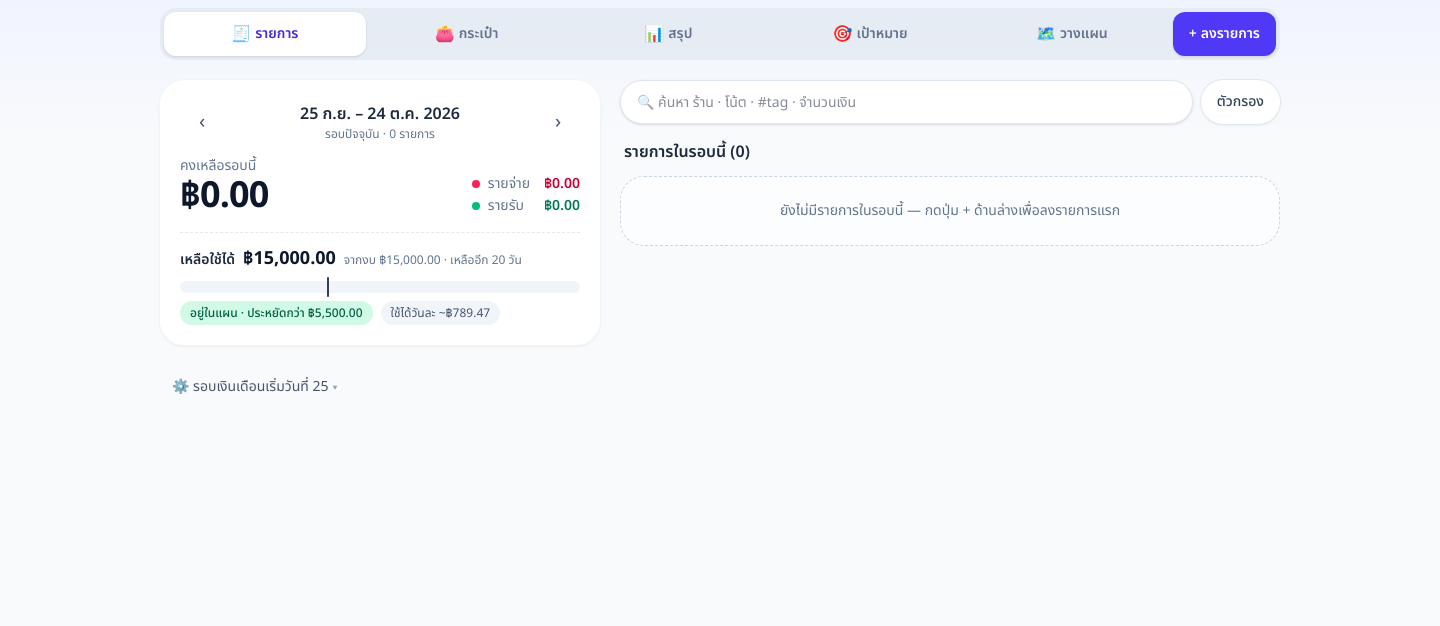
Scenario: CP-11.3 + 12.1b: หน้า รายการ — สถานการณ์เงินเดือนออกวันที่ 25 › รายจ่ายไม่ผูกกลุ่ม → เลือกหมวดเอง และนับเป็น 'ไม่ได้ผูกกับกลุ่ม'
Expected: the message named "รอบที่แสดง" is shown, x1=300 y1=102 x2=460 y2=126
Click the button with aria-label "ลงรายการเร็ว" at (1224, 34), box x1=1173 y1=12 x2=1276 y2=56
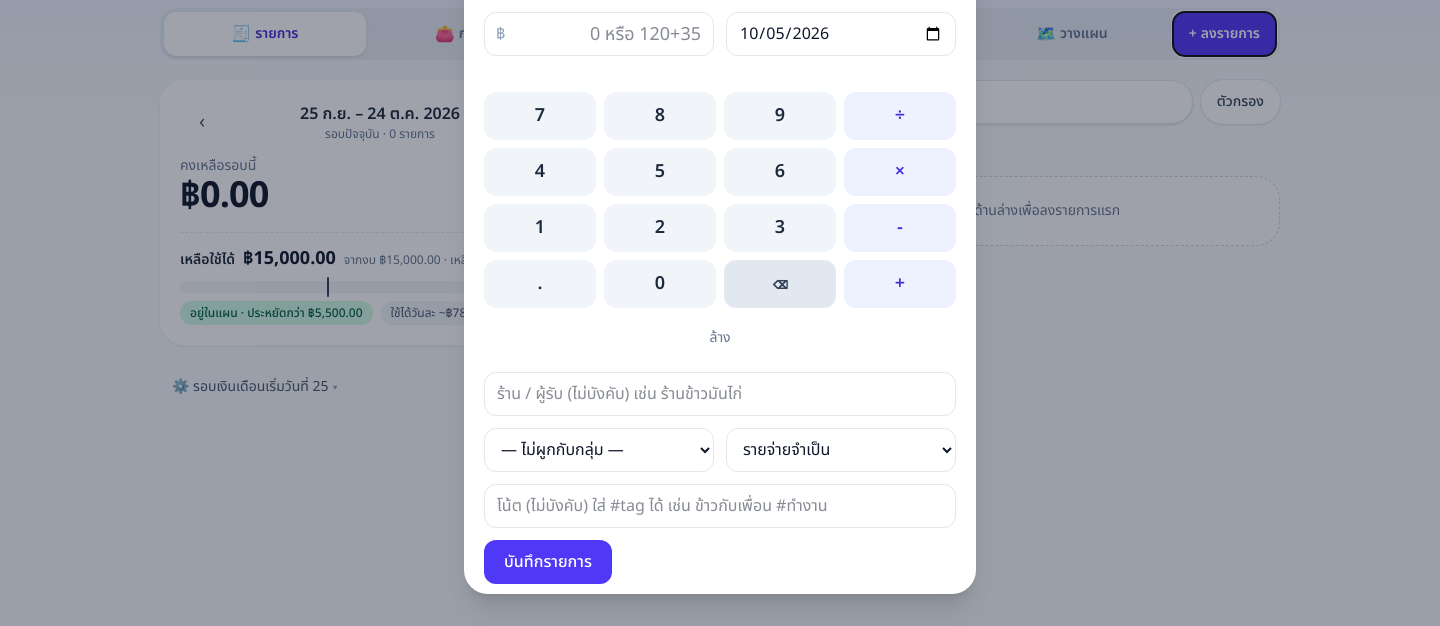
Type "120" into the field named "จำนวนเงินรายการ" at (599, 34), box x1=484 y1=12 x2=714 y2=56
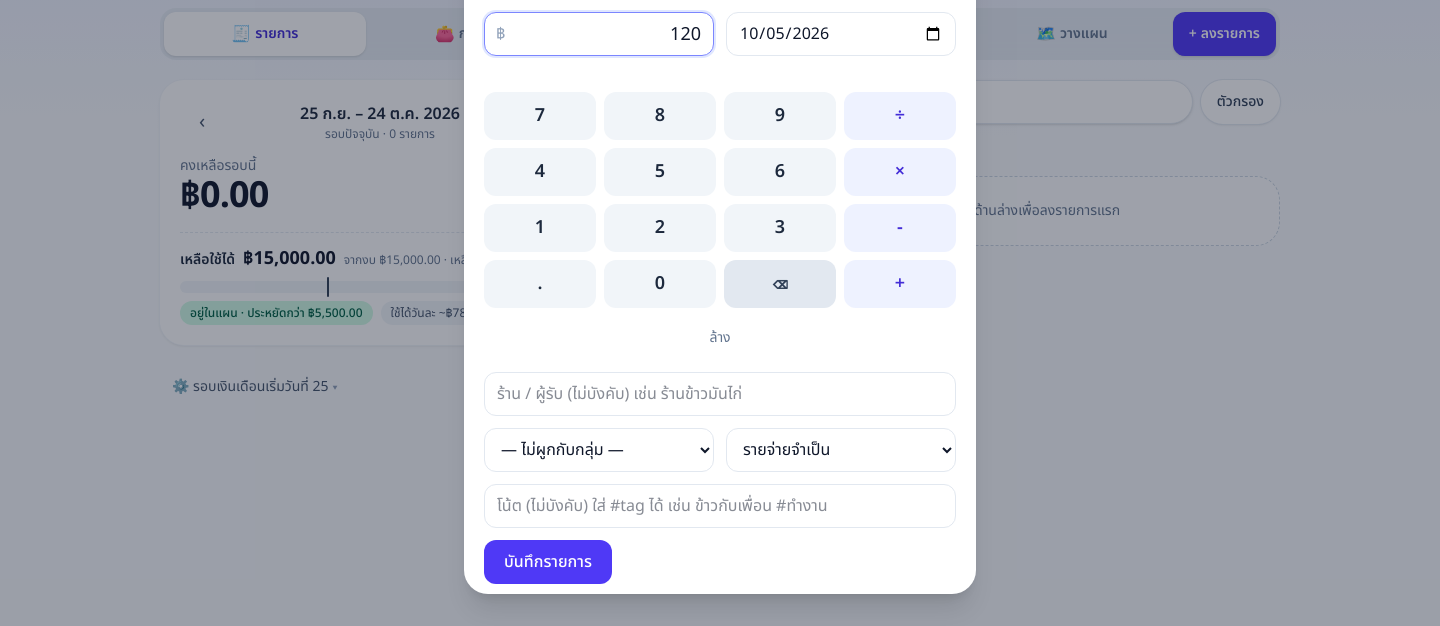
Select "ฟุ่มเฟือย/ตามใจ" in the dropdown named "หมวดรายการ" at (841, 450), box x1=726 y1=428 x2=956 y2=472
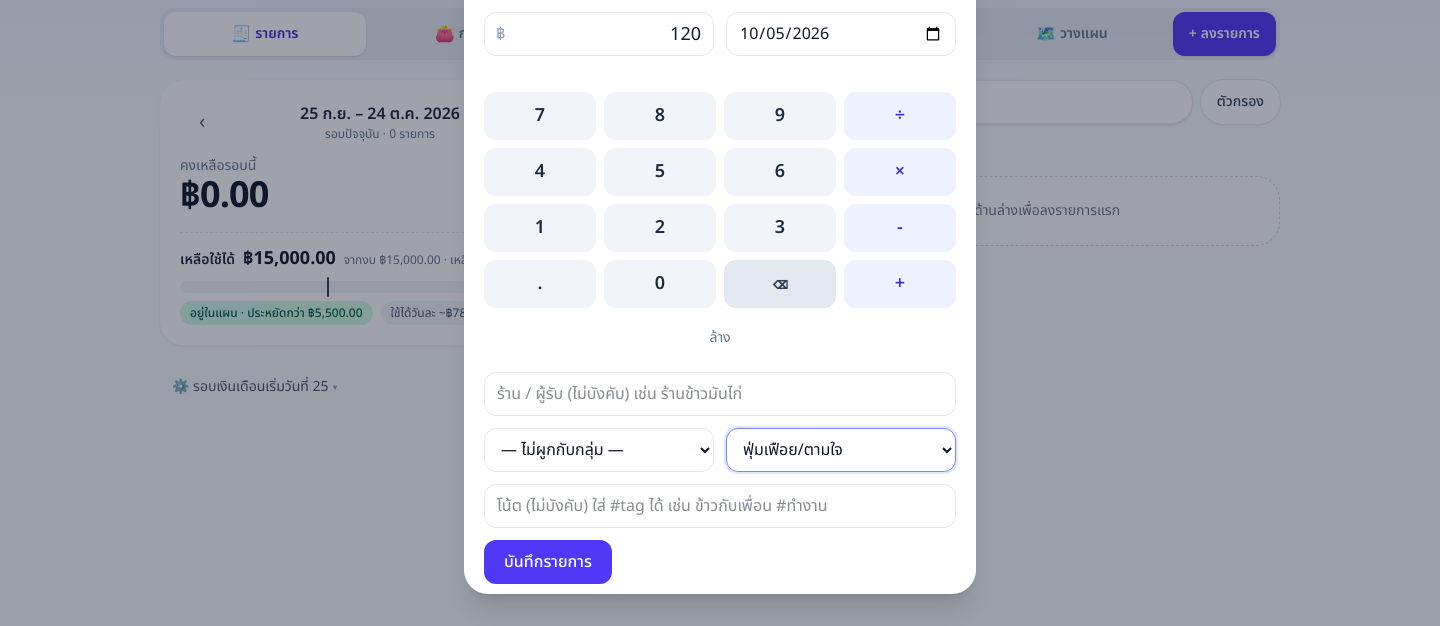
Click the button "บันทึกรายการ" at (548, 562), box x1=484 y1=540 x2=612 y2=584
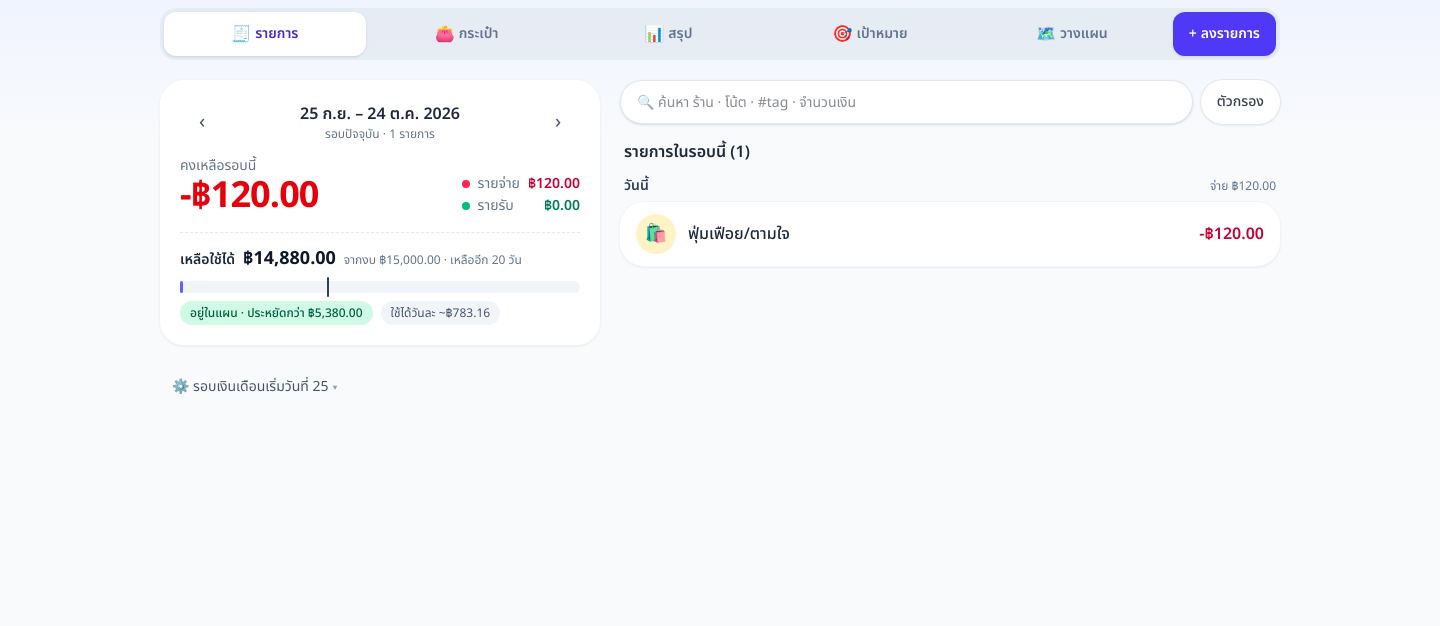
Click the tab "📊 สรุป" at (668, 34), box x1=568 y1=12 x2=769 y2=56
(page scrolled)
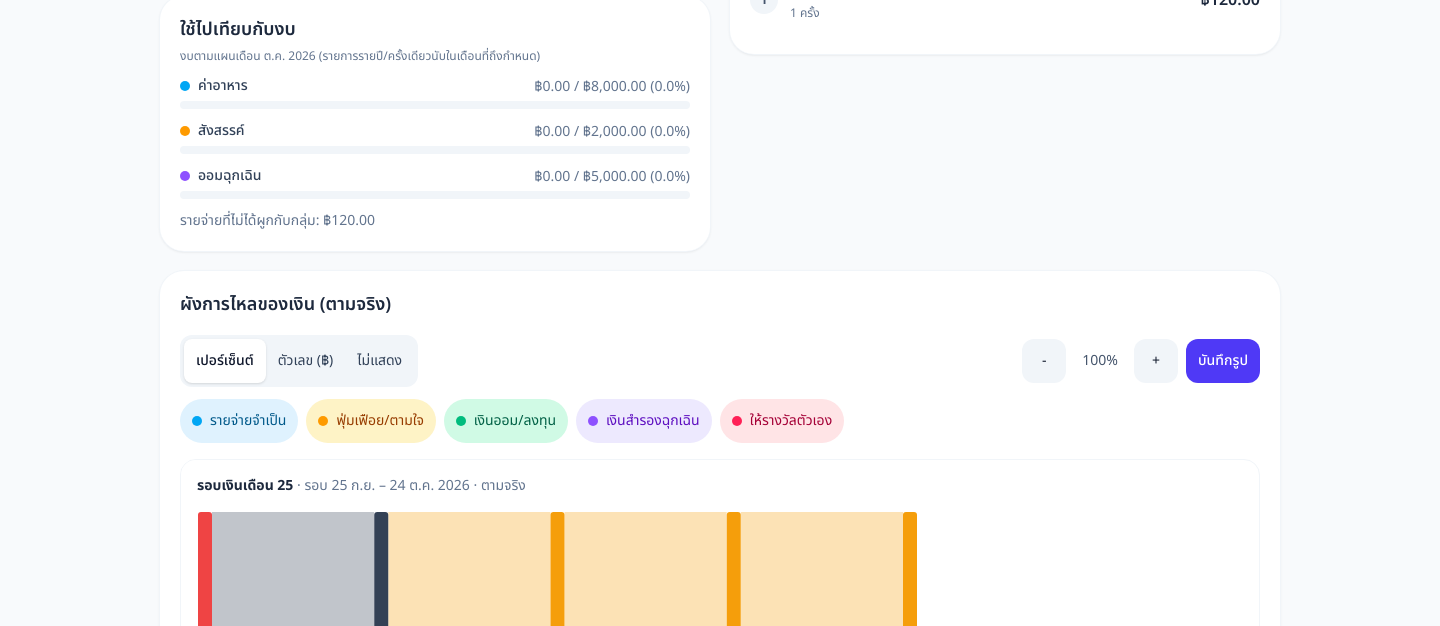
Result: the text "รายจ่ายที่ไม่ได้ผูกกับกลุ่ม: ฿120.00" is shown at x1=180 y1=210 x2=375 y2=231
